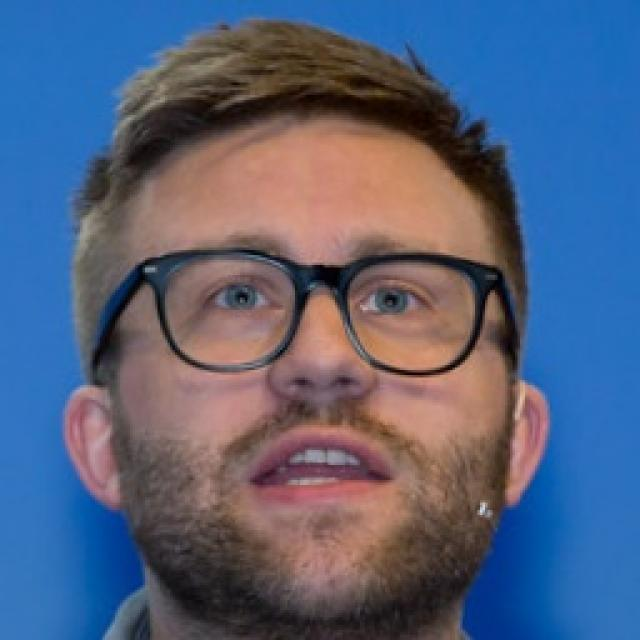glasses: (84, 226, 520, 380)
